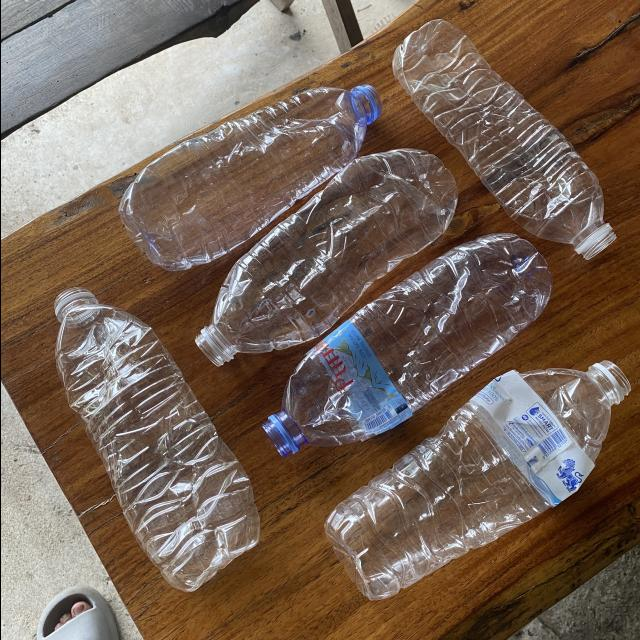plastik: (324, 361, 630, 599), (262, 234, 551, 457), (53, 288, 259, 591), (194, 149, 457, 366), (391, 20, 614, 258), (118, 85, 381, 270)
